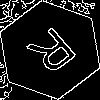R: (25, 25, 86, 84)
